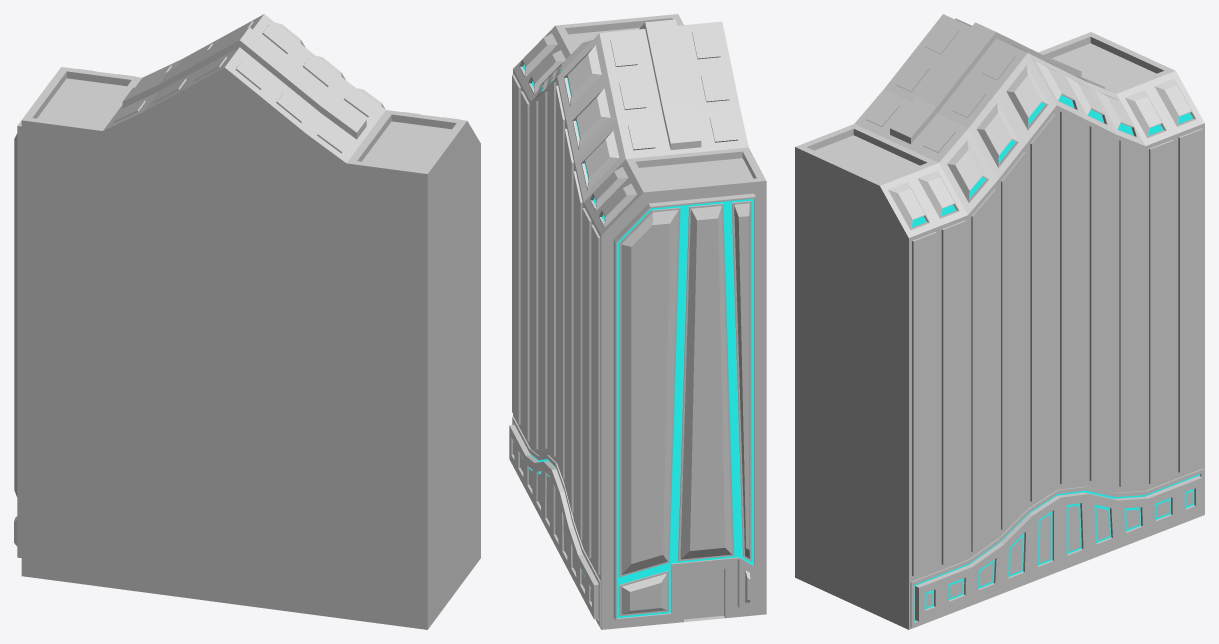
The model's file is tall-arch.glb.
3 views of the same model, side by side, from view 1: azimuth 30°, elevation 25°; view 2: azimuth 150°, elevation 25°; view 3: azimuth 270°, elevation 25° (orthographic). The views are drawn at different scales.
Visible parts, largest first — view 1: Cube.029; view 2: Cube.029; view 3: Cube.029.
Boxes of the visible parts, x1,y1,x2,y2 form: Cube.029: (14,14,480,629); Cube.029: (509,14,766,629); Cube.029: (795,14,1204,629).
Size of the model in its own units: 30.53 by 43.62 by 31.6.
